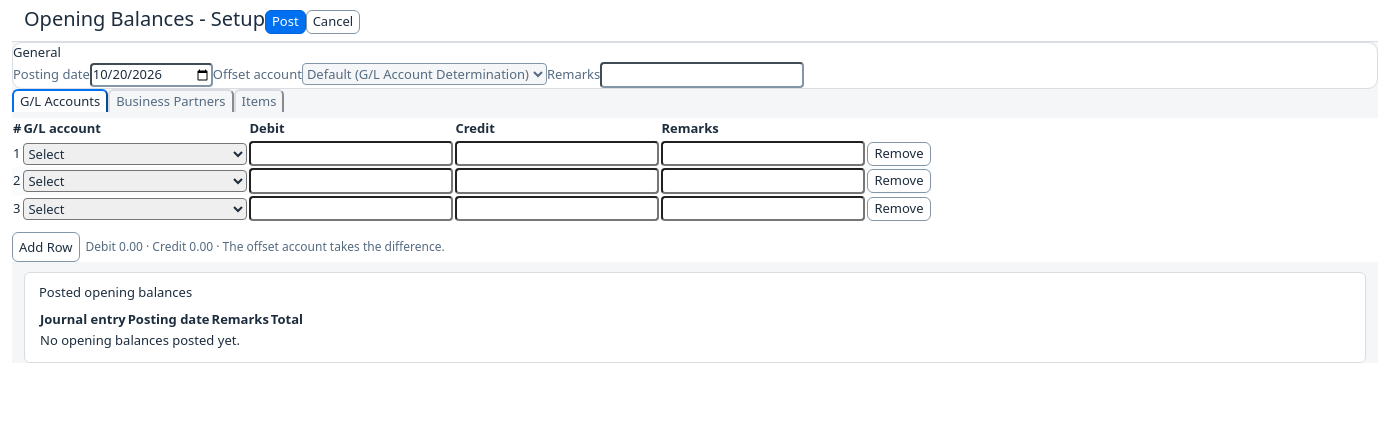
it: Opening Balances page › posts only the filled business partner rows and reloads the list
This screenshot has width=1378, height=427.
Click the tab "Business Partners" at (171, 101), box [108,89,234,112]
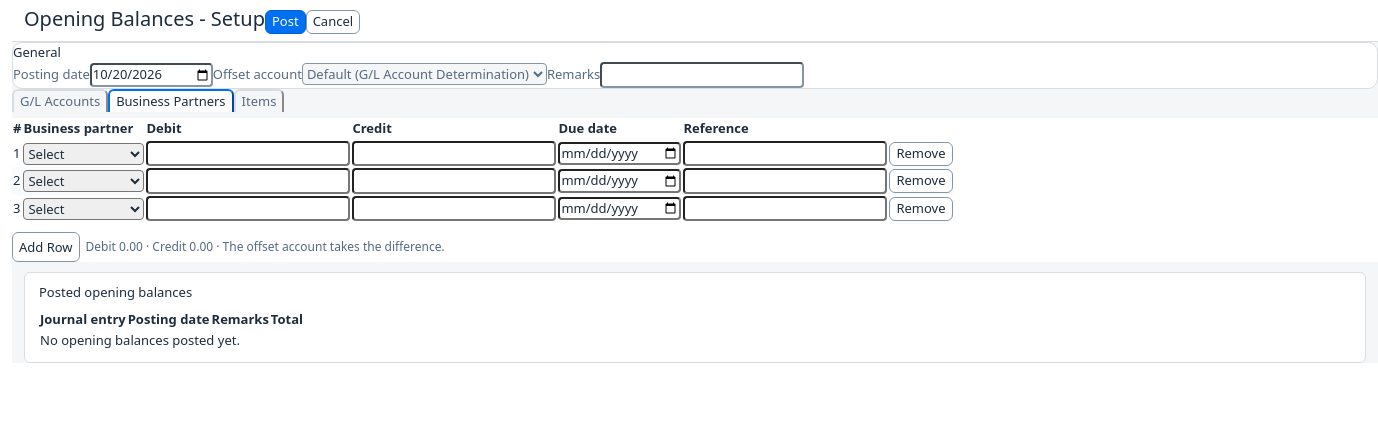
Select "C001 - Acme Ltd" in the dropdown named "Business partner row 1" at (84, 154), box [23,142,144,164]
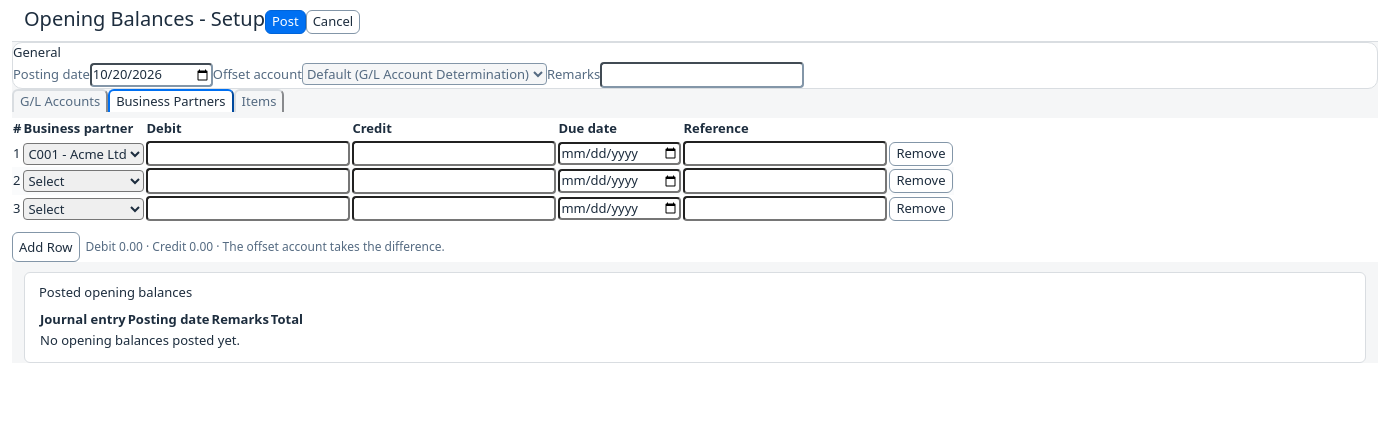
Type "1180" into the number field named "Debit row 1" at (248, 154), box [146,141,350,166]
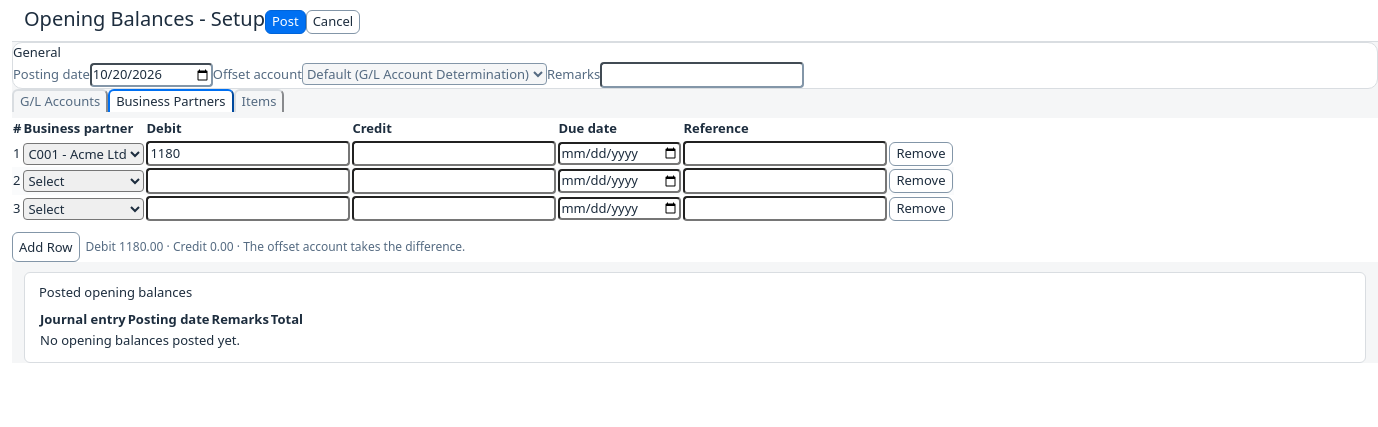
Click the button "Post" at (285, 22), box [265,10,306,34]
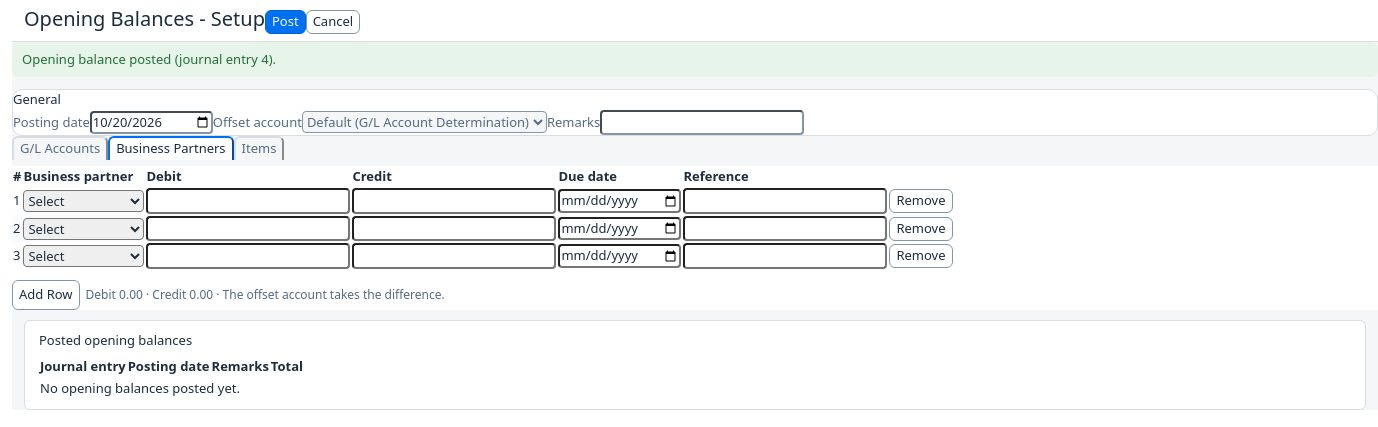
Result: the message reads "Opening balance posted (journal entry 4)." at [22,50,276,68]
